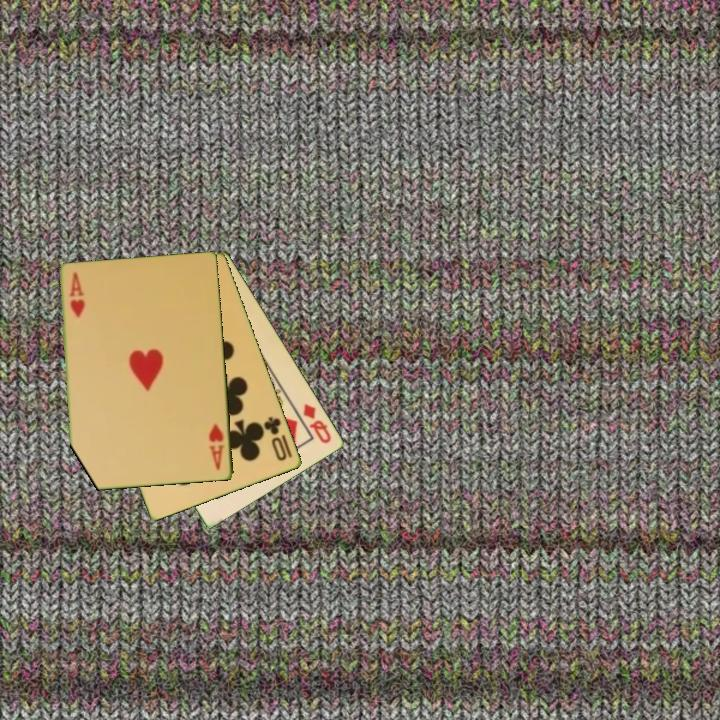10c: (260, 413, 290, 464)
Ah: (206, 420, 228, 473), (66, 268, 85, 321)
Qd: (300, 400, 335, 447)
